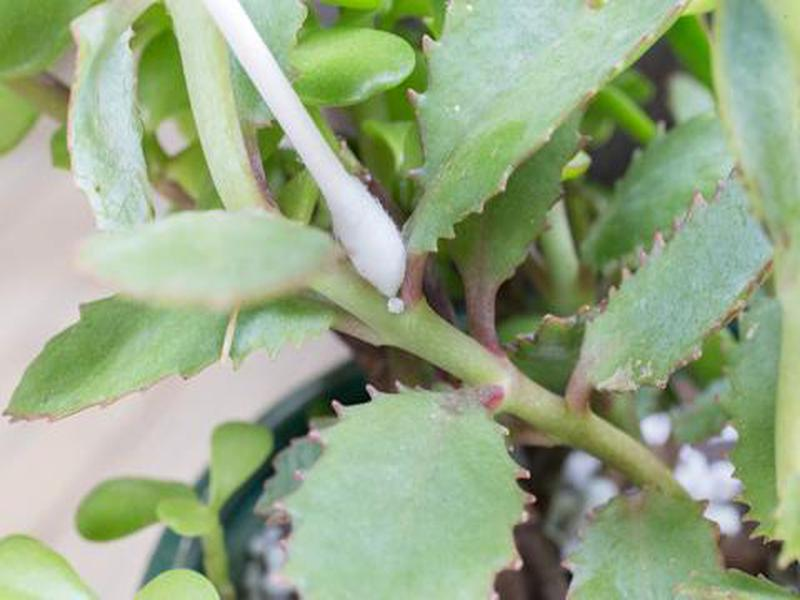Mealy_bug: (329, 184, 422, 322)
